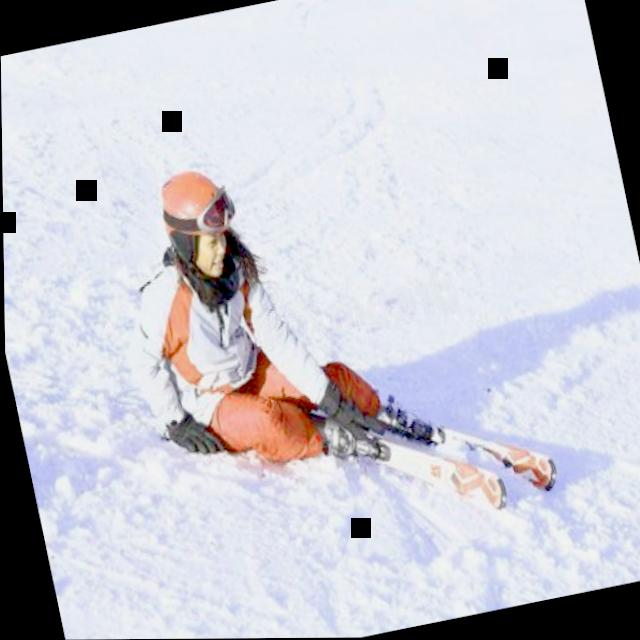Fall-Detected: (91, 120, 407, 509)
